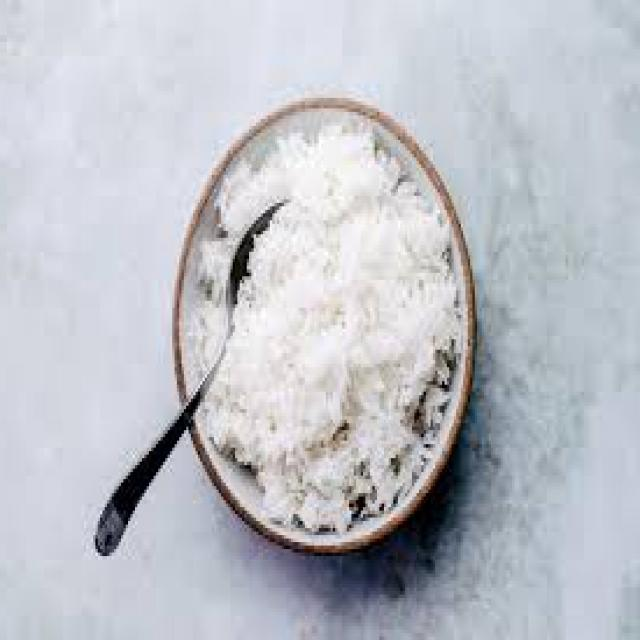White Rice: (194, 139, 466, 540)
